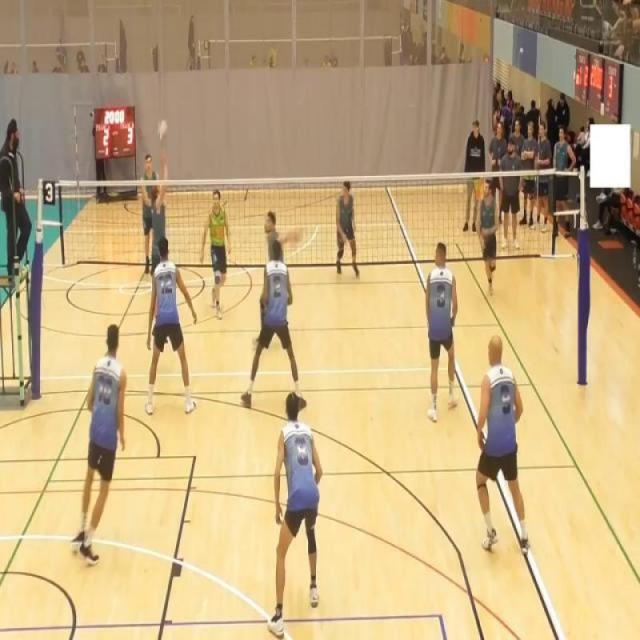volleyball: (156, 119, 168, 144)
